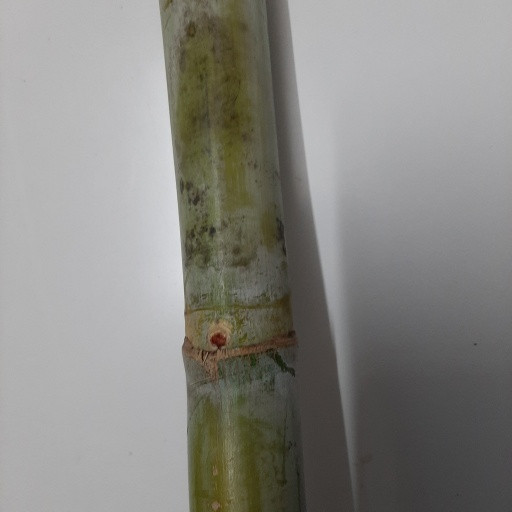Damage_Bud: (207, 321, 234, 352)
